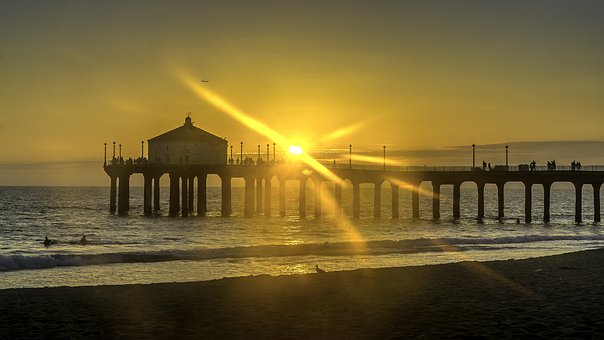sea: (4, 187, 604, 334)
sky: (8, 1, 602, 165)
